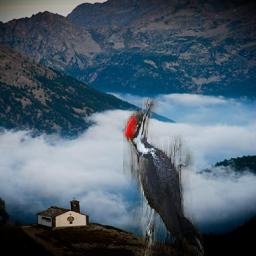Woodpecker: (124, 98, 205, 256)
